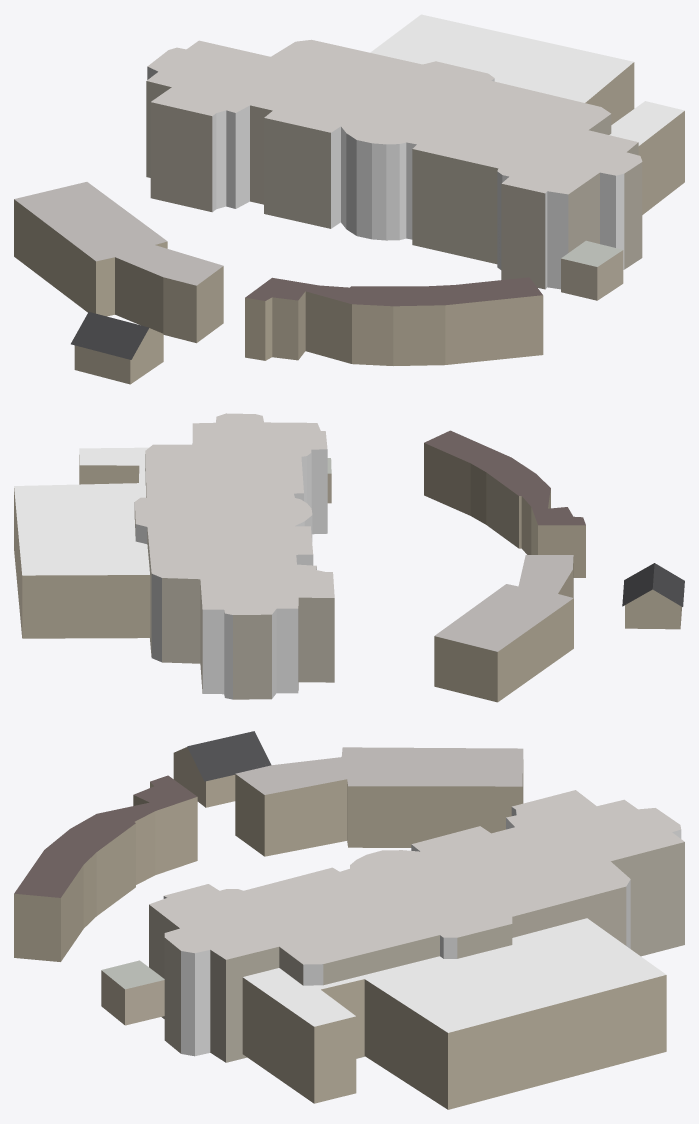
3 views of the same model, one above another, from view 1: azimuth 30°, elevation 25°; view 2: azimuth 150°, elevation 25°; view 3: azimuth 270°, elevation 25° (orthographic). The views are drawn at different scales.
Visible parts, largest first — view 1: tuile; view 2: tuile; view 3: tuile.
Part boxes in pixels (x1=…): tuile: x1=14, y1=14, x2=684, y2=384; tuile: x1=14, y1=413, x2=684, y2=702; tuile: x1=14, y1=731, x2=684, y2=1109.
Size of the model in its own units: 89.3 by 12.55 by 73.1.
